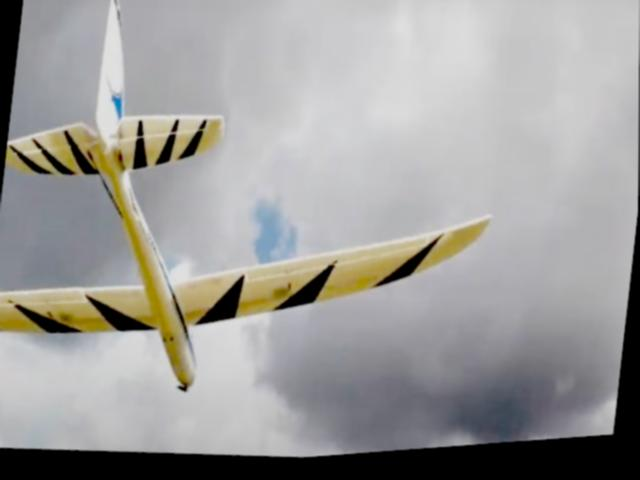iha: (0, 0, 515, 439)
